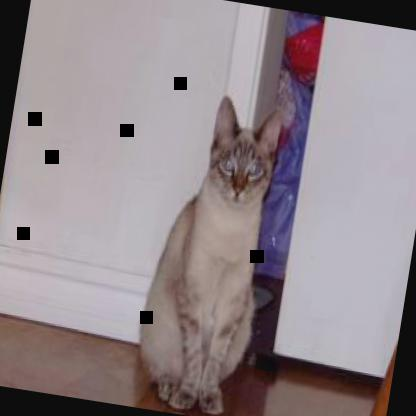cat: (127, 86, 286, 415)
